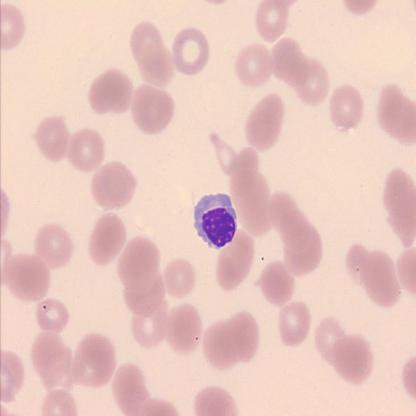NRC: (192, 190, 238, 252)
